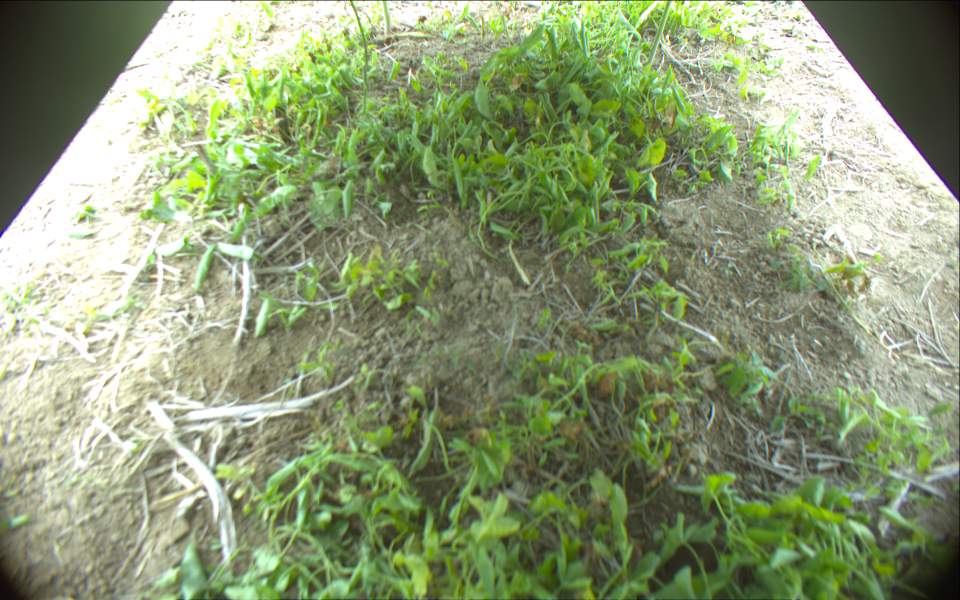aspa: (646, 1, 671, 72), (350, 1, 370, 66), (381, 1, 392, 34)
